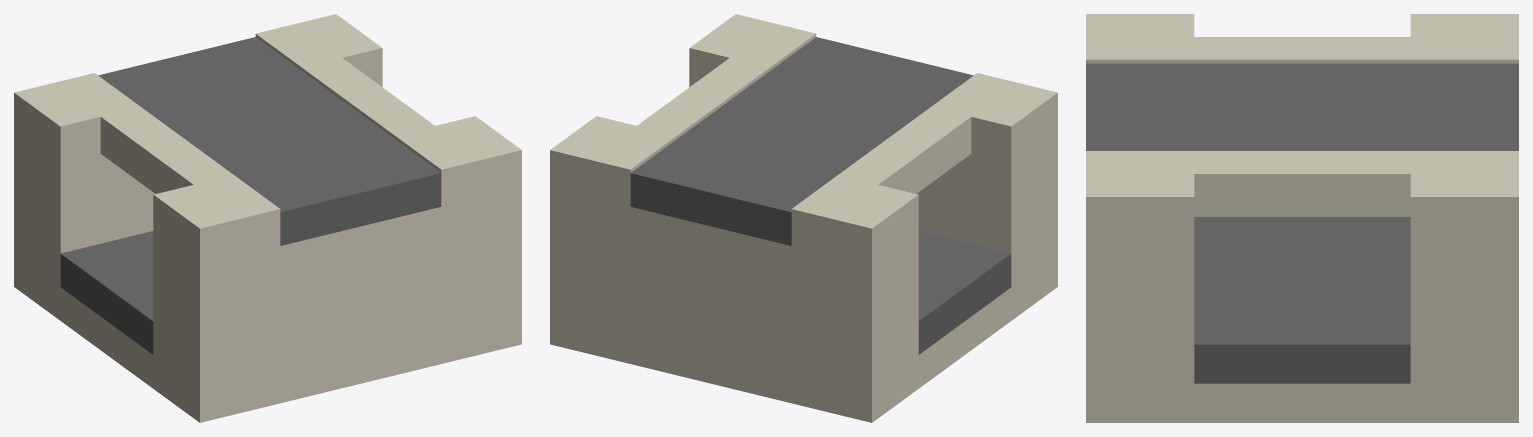
File: roadTile_201.fbx
3 views of the same model, side by side, from view 1: azimuth 30°, elevation 25°; view 2: azimuth 150°, elevation 25°; view 3: azimuth 270°, elevation 25° (orthographic). The views are drawn at different scales.
Visible parts, largest first — view 1: roadTile_201; view 2: roadTile_201; view 3: roadTile_201.
Part boxes in pixels (x1,y1,x2,y2): roadTile_201: (14,14,521,422); roadTile_201: (550,14,1057,422); roadTile_201: (1086,14,1518,422).
Bounding box in the file's own units: 118 × 68.11 × 118.
